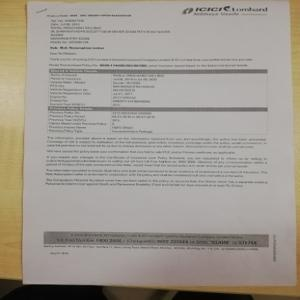image: (181, 3, 270, 18)
table: (45, 64, 269, 108), (43, 106, 271, 138)
text: (43, 7, 257, 69), (46, 134, 272, 190)
